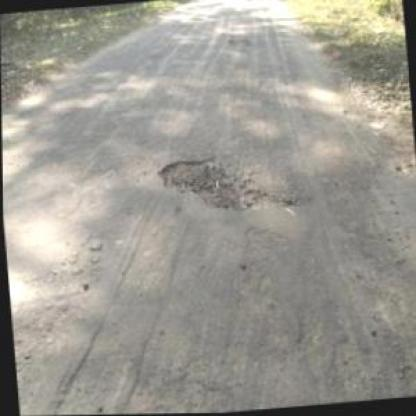pothole: (153, 151, 266, 218), (226, 36, 248, 47)
